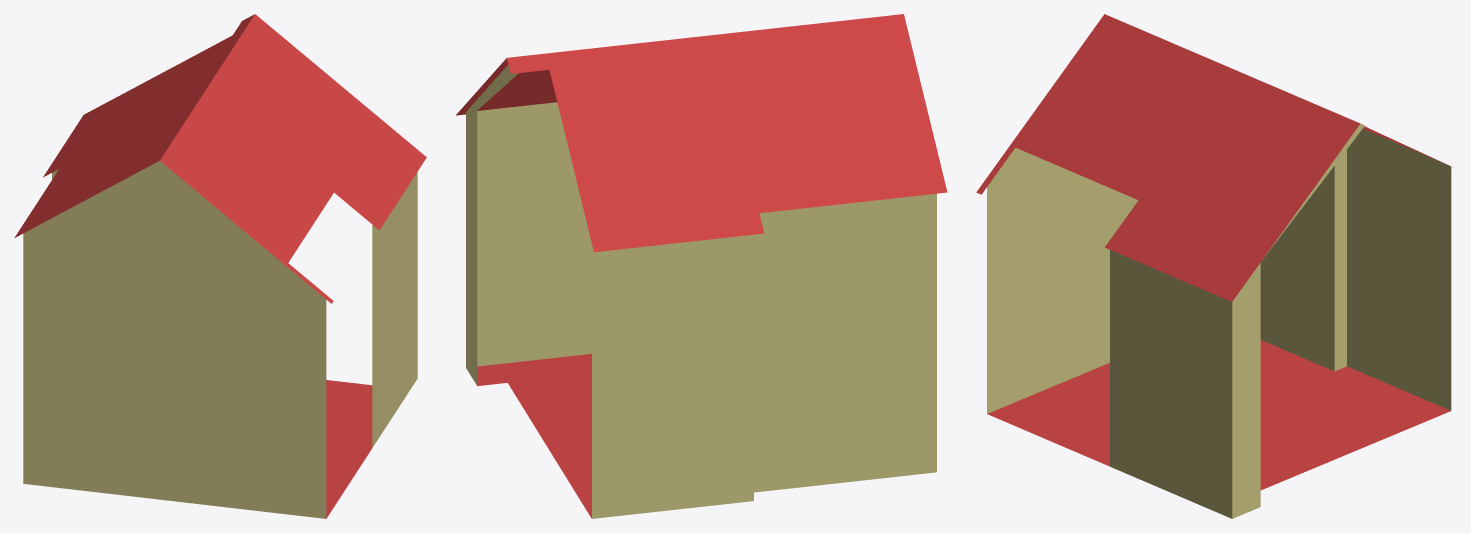
3 renders of one model, left to right at view 1: azimuth 30°, elevation 25°; view 2: azimuth 150°, elevation 25°; view 3: azimuth 270°, elevation 25°, orthographic. The views are drawn at different scales.
Size of the model in its own units: 16.23 by 15.8 by 12.57.
